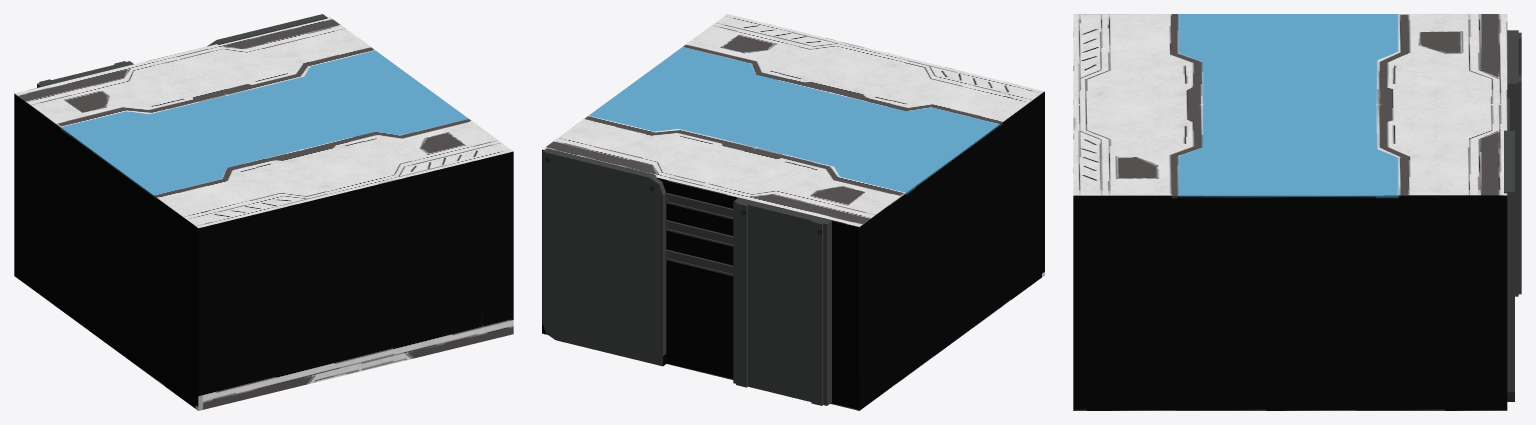
The model's file is 城市平台底座.fbx.
The picture shows the model from 3 angles, left to right: view 1: azimuth 30°, elevation 25°; view 2: azimuth 150°, elevation 25°; view 3: azimuth 270°, elevation 25°; orthographic projection. The views are drawn at different scales.
Visible parts, largest first — view 1: Cube_001; view 2: Cube_001; view 3: Cube_001.
Boxes of the visible parts, <box> form: Cube_001: <box>14,14,513,410</box>; Cube_001: <box>542,14,1044,410</box>; Cube_001: <box>1073,14,1521,410</box>.
Bounding box in the file's own units: 1709 × 954 × 1787.
